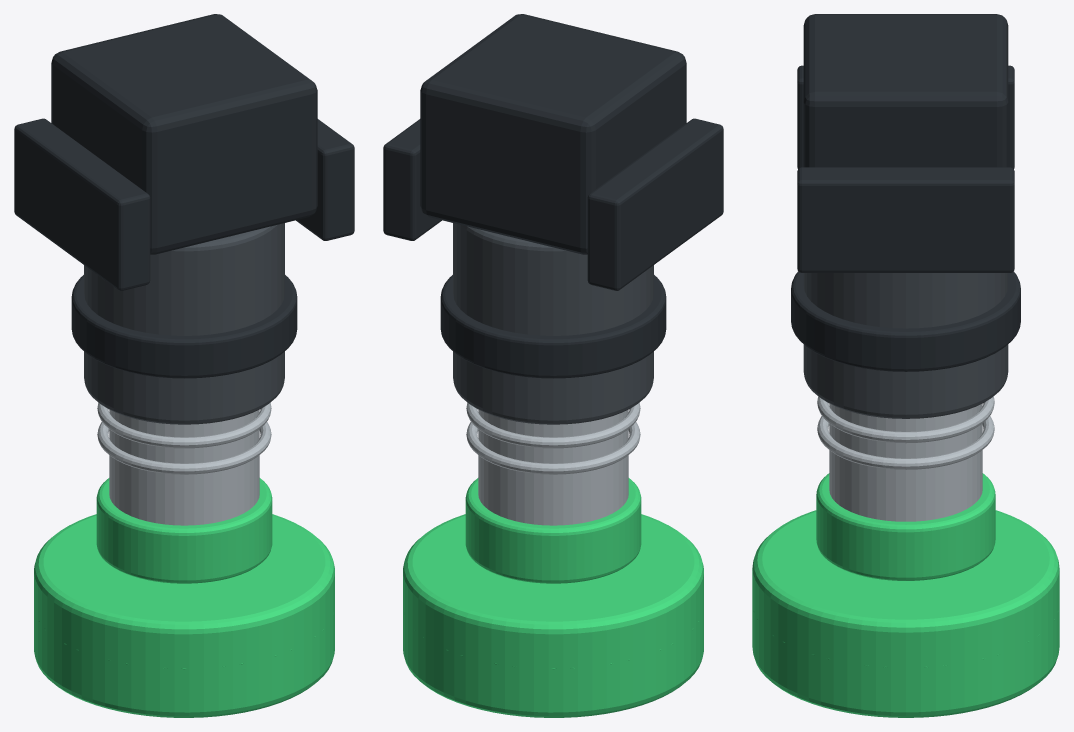
The model's file is smt_nozzle.glb.
3 renders of one model, left to right at view 1: azimuth 30°, elevation 25°; view 2: azimuth 150°, elevation 25°; view 3: azimuth 270°, elevation 25°, orthographic.
Visible parts, largest first — view 1: MountingBlock_8x8x6mm, SiliconeCup_12mm, Barrel_8mm, MountEarLeft, SpringShaft_6mm, CupNeck_7mm, Collar_9mm, MountEarRight, SpringCoil_04, SpringCoil_03; view 2: MountingBlock_8x8x6mm, SiliconeCup_12mm, Barrel_8mm, MountEarLeft, SpringShaft_6mm, CupNeck_7mm, Collar_9mm, MountEarRight, SpringCoil_04, SpringCoil_03; view 3: SiliconeCup_12mm, MountingBlock_8x8x6mm, MountEarRight, Barrel_8mm, SpringShaft_6mm, CupNeck_7mm, Collar_9mm, SpringCoil_04, SpringCoil_03, MountEarLeft.
Boxes of the visible parts, left/top/right/bottom form: MountingBlock_8x8x6mm: left=51, top=14, right=317, bottom=254; SiliconeCup_12mm: left=34, top=514, right=334, bottom=717; Barrel_8mm: left=84, top=223, right=284, bottom=424; MountEarLeft: left=14, top=118, right=150, bottom=290; SpringShaft_6mm: left=109, top=409, right=259, bottom=525; CupNeck_7mm: left=96, top=478, right=272, bottom=583; Collar_9mm: left=71, top=275, right=297, bottom=378; MountEarRight: left=296, top=119, right=354, bottom=240; SpringCoil_04: left=97, top=422, right=271, bottom=474; SpringCoil_03: left=97, top=402, right=271, bottom=448; MountingBlock_8x8x6mm: left=420, top=14, right=686, bottom=254; SiliconeCup_12mm: left=403, top=514, right=703, bottom=717; Barrel_8mm: left=453, top=223, right=653, bottom=424; MountEarLeft: left=587, top=118, right=723, bottom=290; SpringShaft_6mm: left=478, top=409, right=628, bottom=525; CupNeck_7mm: left=465, top=478, right=641, bottom=583; Collar_9mm: left=440, top=275, right=666, bottom=378; MountEarRight: left=383, top=119, right=441, bottom=240; SpringCoil_04: left=466, top=422, right=640, bottom=474; SpringCoil_03: left=466, top=402, right=640, bottom=448; SiliconeCup_12mm: left=752, top=510, right=1059, bottom=717; MountingBlock_8x8x6mm: left=803, top=14, right=1008, bottom=167; MountEarRight: left=797, top=167, right=1014, bottom=272; Barrel_8mm: left=803, top=273, right=1008, bottom=418; SpringShaft_6mm: left=829, top=403, right=982, bottom=521; CupNeck_7mm: left=816, top=473, right=995, bottom=580; Collar_9mm: left=791, top=271, right=1020, bottom=371; SpringCoil_04: left=817, top=416, right=994, bottom=469; SpringCoil_03: left=817, top=396, right=994, bottom=443; MountEarLeft: left=797, top=65, right=1014, bottom=168.
Size of the model in its own units: 0.012 by 0.0267 by 0.012.
